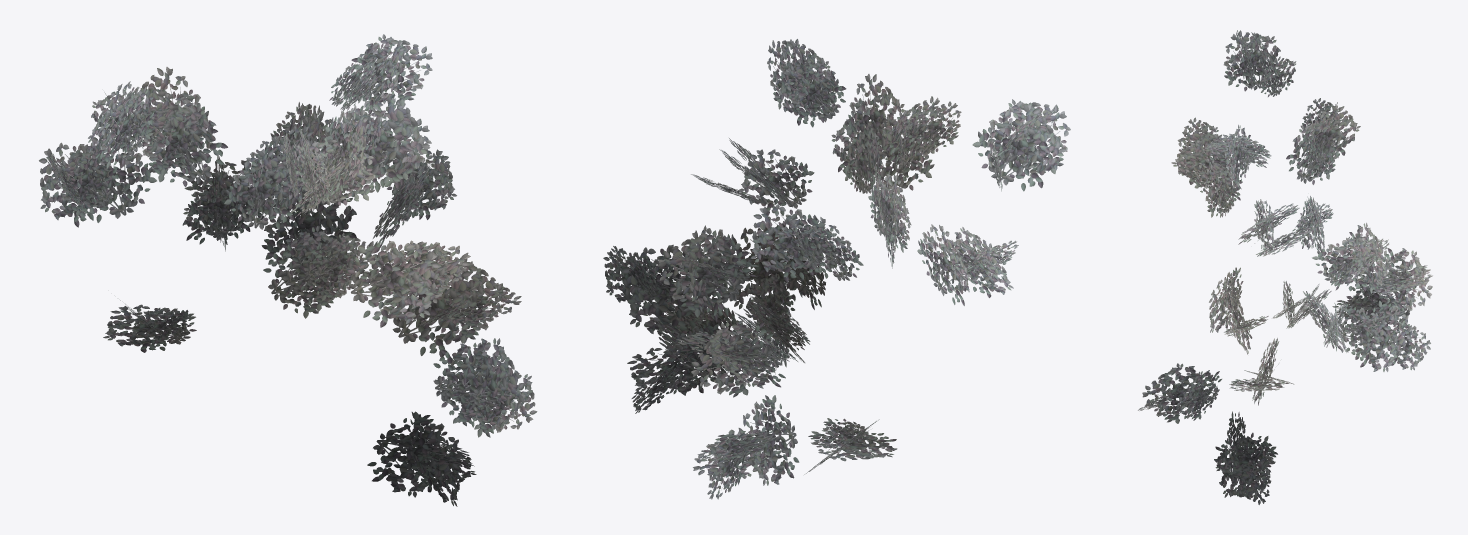
The model's file is birch_l1.gltf.
3 views of the same model, side by side, from view 1: azimuth 30°, elevation 25°; view 2: azimuth 150°, elevation 25°; view 3: azimuth 270°, elevation 25° (orthographic). The views are drawn at different scales.
Visible parts, largest first — view 1: birch_l1; view 2: birch_l1; view 3: birch_l1.
Part boxes in pixels (<box>): birch_l1: <box>39,34,537,506</box>; birch_l1: <box>603,39,1070,499</box>; birch_l1: <box>1138,30,1432,504</box>.
Bounding box in the file's own units: 11.04 × 11.85 × 9.24.
Materials: 1 (1 with a texture image).
